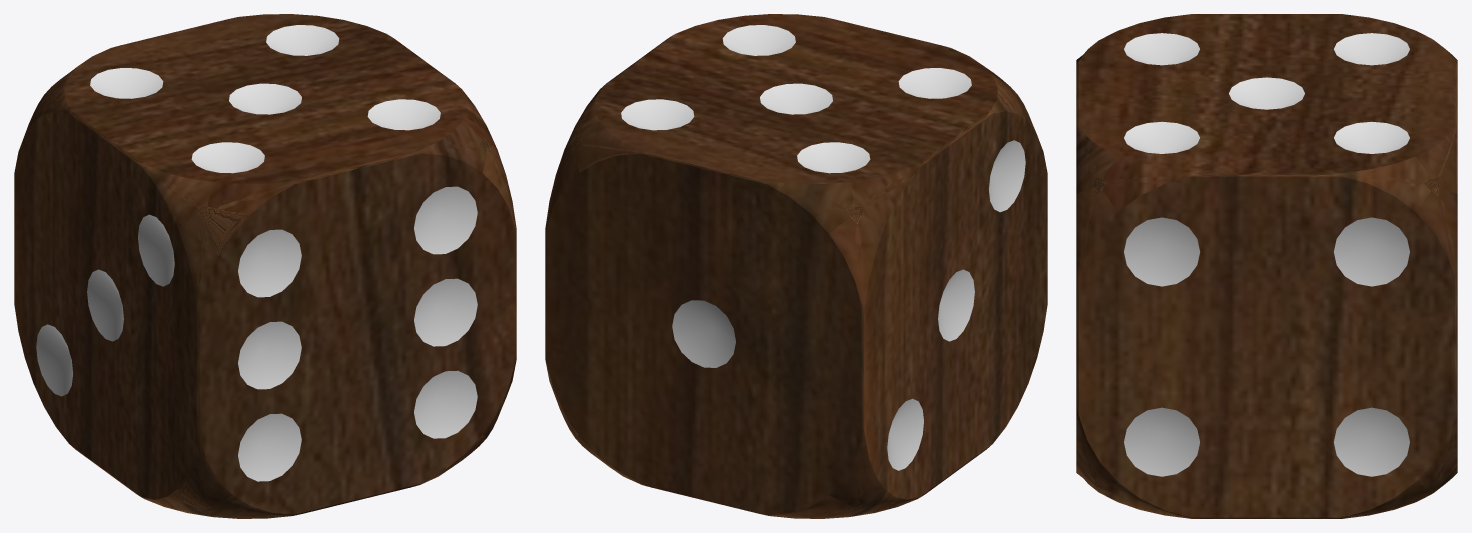
File: Die.fbx
3 views of the same model, side by side, from view 1: azimuth 30°, elevation 25°; view 2: azimuth 150°, elevation 25°; view 3: azimuth 270°, elevation 25° (orthographic). The views are drawn at different scales.
Parts seen in each view (by area): view 1: Cube; view 2: Cube; view 3: Cube.
Boxes of the visible parts, <box> form: Cube: <box>14,14,516,518</box>; Cube: <box>545,14,1047,518</box>; Cube: <box>1076,14,1457,518</box>.
Size of the model in its own units: 50 by 50 by 50.
